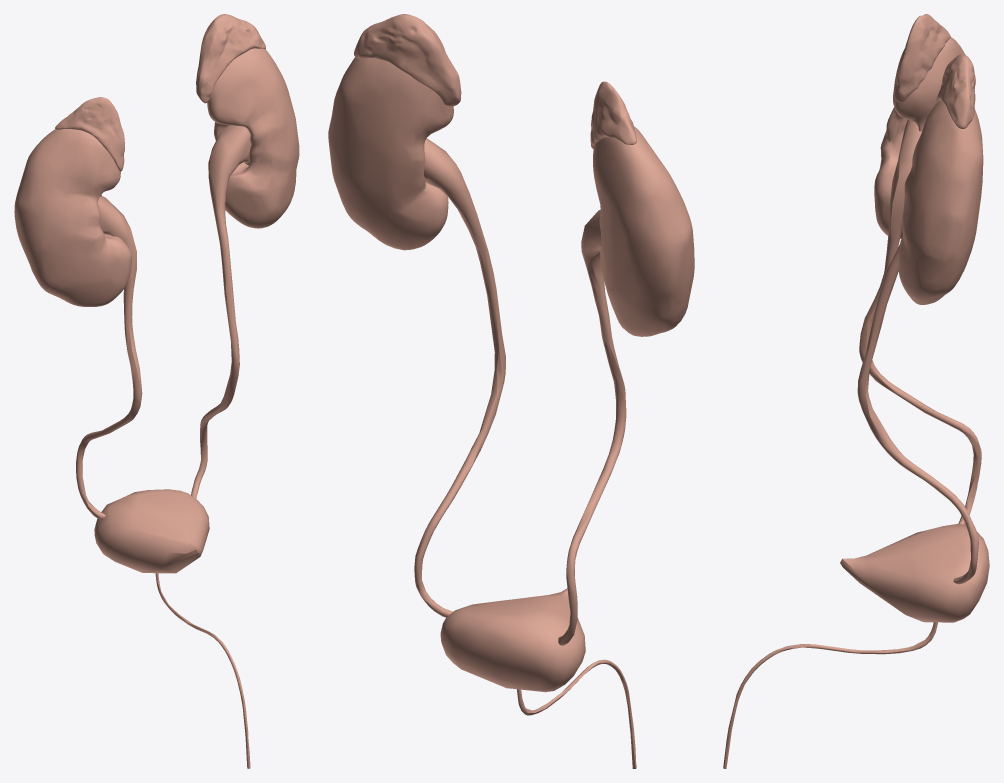
The model's file is urinary.glb.
3 views of the same model, side by side, from view 1: azimuth 30°, elevation 25°; view 2: azimuth 150°, elevation 25°; view 3: azimuth 270°, elevation 25° (orthographic). The views are drawn at different scales.
Visible parts, largest first — view 1: FMA7204_Right_kidney, FMA7205_Left_kidney, FMA15900_Urinary_bladder, FMA15572_Left_ureter, FMA15571_Right_ureter, FMA15630_Left_adrenal_gland, FMA15629_Right_adrenal_gland, FMA19667_Urethra; view 2: FMA7205_Left_kidney, FMA7204_Right_kidney, FMA15900_Urinary_bladder, FMA15572_Left_ureter, FMA15630_Left_adrenal_gland, FMA15571_Right_ureter, FMA15629_Right_adrenal_gland, FMA19667_Urethra; view 3: FMA7205_Left_kidney, FMA15900_Urinary_bladder, FMA15571_Right_ureter, FMA7204_Right_kidney, FMA15572_Left_ureter, FMA15629_Right_adrenal_gland, FMA15630_Left_adrenal_gland, FMA19667_Urethra.
Part boxes in pixels (left/top/right/bottom): FMA7204_Right_kidney: left=14, top=129, right=131, bottom=306; FMA7205_Left_kidney: left=207, top=48, right=299, bottom=228; FMA15900_Urinary_bladder: left=94, top=489, right=209, bottom=573; FMA15572_Left_ureter: left=191, top=125, right=250, bottom=498; FMA15571_Right_ureter: left=76, top=196, right=142, bottom=519; FMA15630_Left_adrenal_gland: left=196, top=14, right=265, bottom=103; FMA15629_Right_adrenal_gland: left=55, top=97, right=124, bottom=171; FMA19667_Urethra: left=155, top=573, right=250, bottom=768; FMA7205_Left_kidney: left=328, top=57, right=453, bottom=250; FMA7204_Right_kidney: left=593, top=126, right=694, bottom=336; FMA15900_Urinary_bladder: left=440, top=588, right=585, bottom=692; FMA15572_Left_ureter: left=414, top=138, right=505, bottom=617; FMA15630_Left_adrenal_gland: left=354, top=14, right=461, bottom=106; FMA15571_Right_ureter: left=558, top=209, right=626, bottom=645; FMA15629_Right_adrenal_gland: left=590, top=81, right=636, bottom=149; FMA19667_Urethra: left=517, top=659, right=636, bottom=768; FMA7205_Left_kidney: left=898, top=100, right=983, bottom=304; FMA15900_Urinary_bladder: left=840, top=523, right=989, bottom=622; FMA15571_Right_ureter: left=859, top=119, right=981, bottom=525; FMA7204_Right_kidney: left=874, top=37, right=965, bottom=238; FMA15572_Left_ureter: left=857, top=244, right=978, bottom=584; FMA15629_Right_adrenal_gland: left=894, top=14, right=950, bottom=102; FMA15630_Left_adrenal_gland: left=935, top=54, right=975, bottom=128; FMA19667_Urethra: left=723, top=622, right=937, bottom=768.
Bounding box in the file's own units: 0.178 × 0.3997 × 0.1276.
